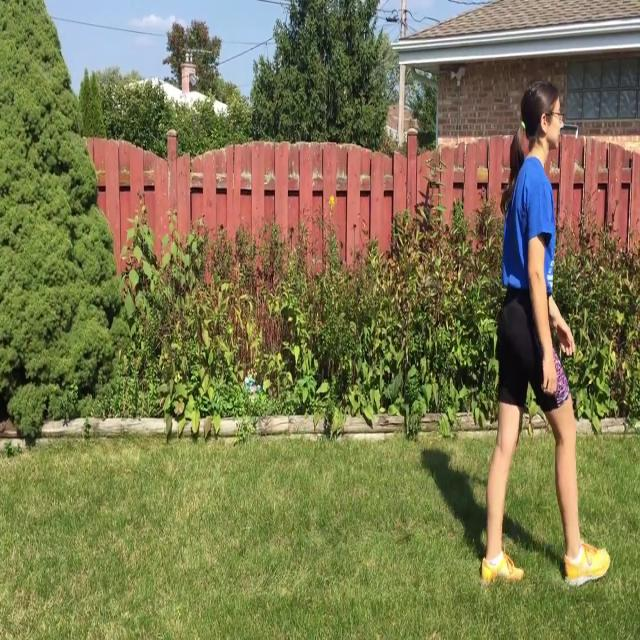normal: (482, 66, 616, 598)
